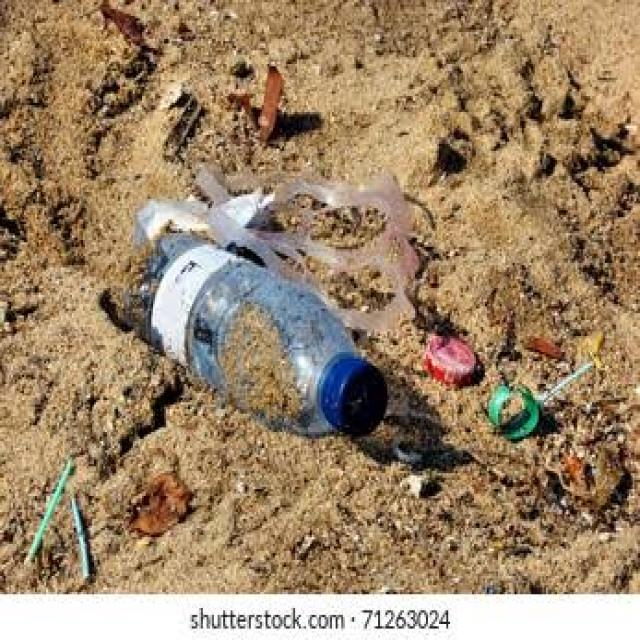plastic: (75, 203, 463, 537)
